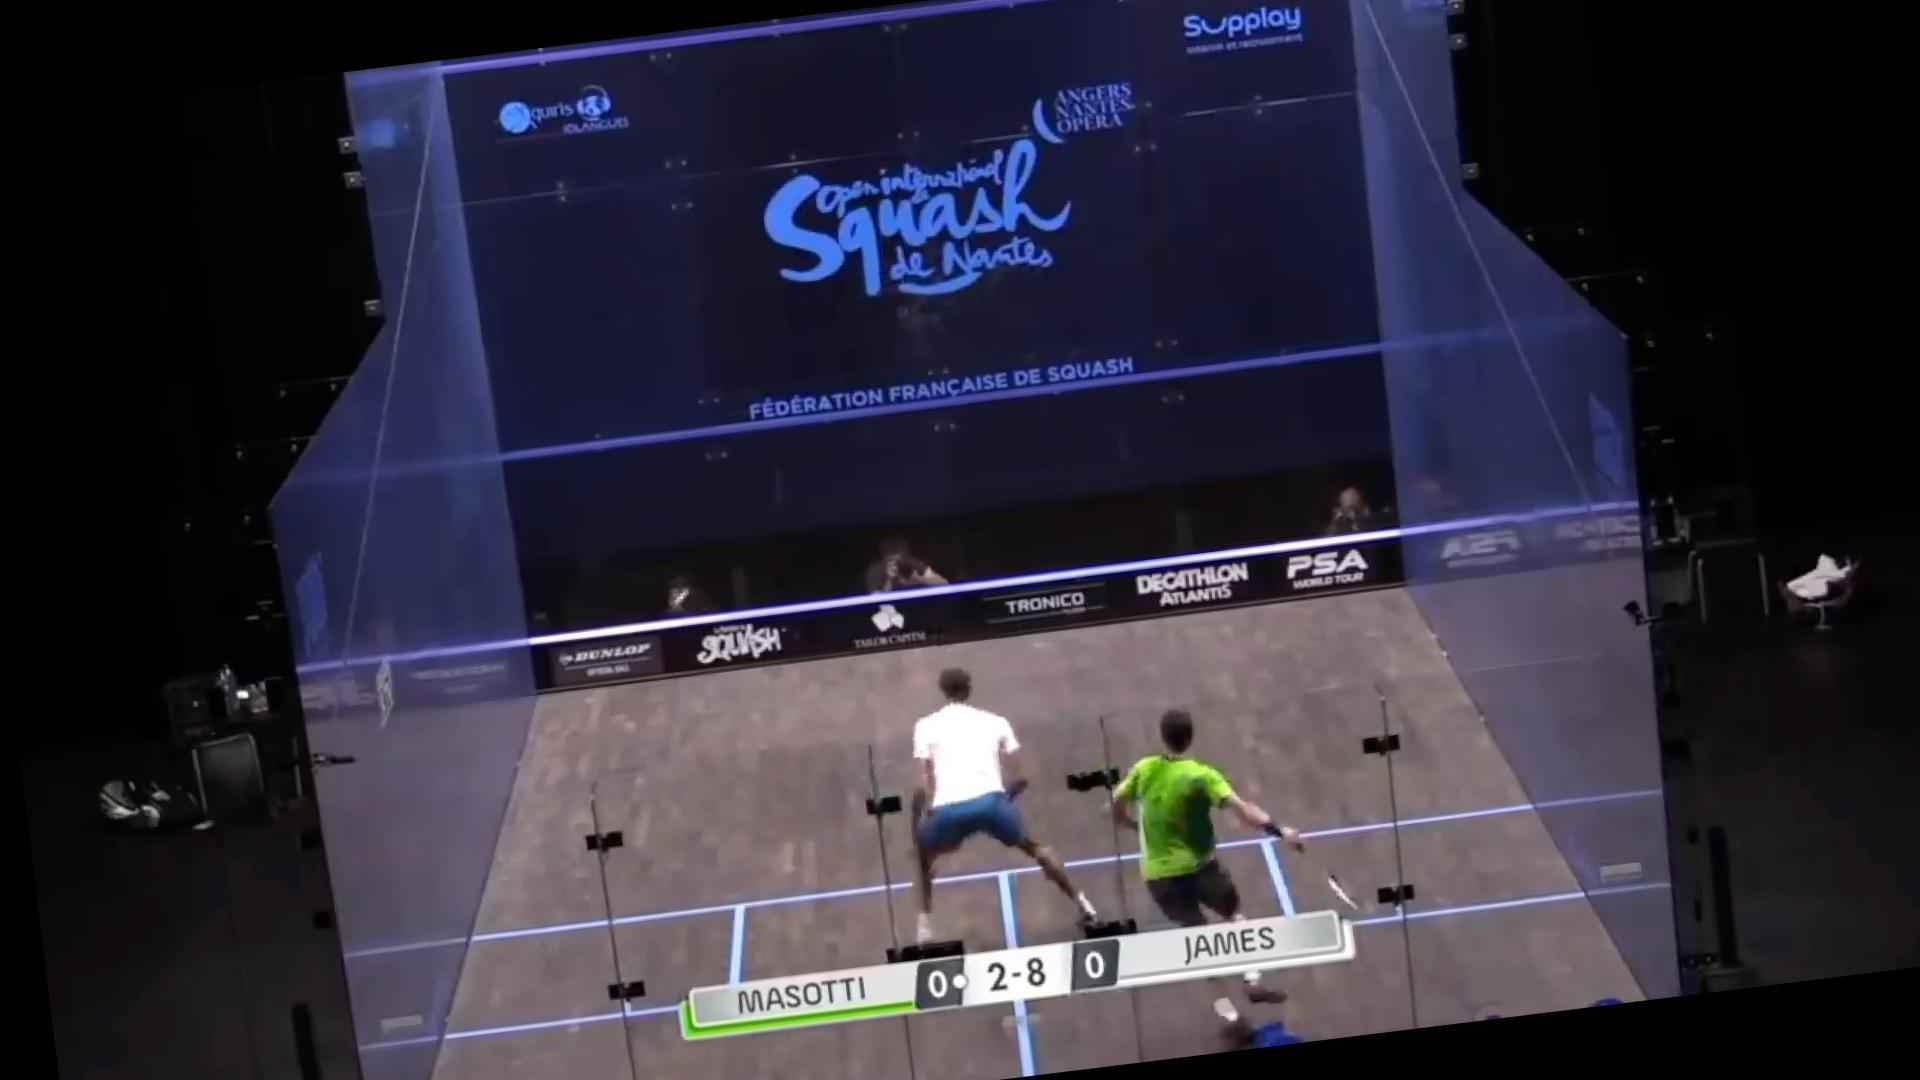Squash-Ball: (653, 574, 708, 622)
